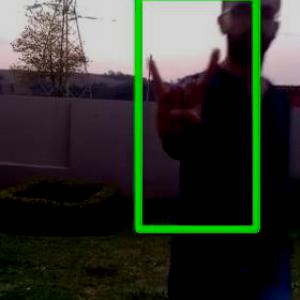takeoff-hand: (146, 42, 220, 138)
